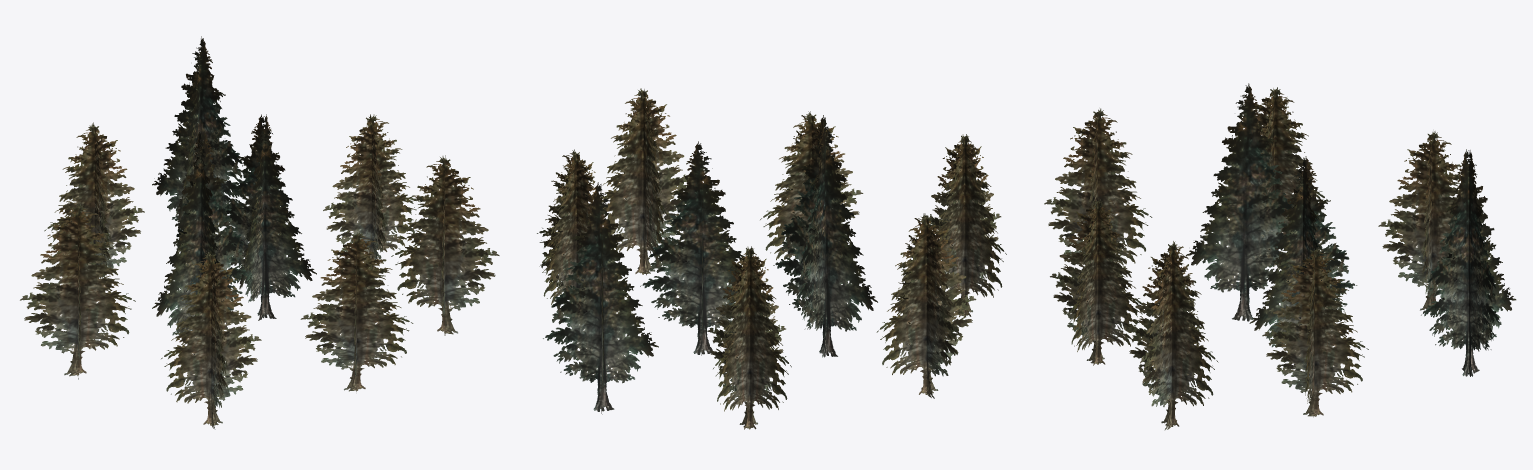
File: FOL_PineTree_BillBoard.FBX
3 views of the same model, side by side, from view 1: azimuth 30°, elevation 25°; view 2: azimuth 150°, elevation 25°; view 3: azimuth 270°, elevation 25° (orthographic). The views are drawn at different scales.
Parts seen in each view (by area): view 1: g; view 2: g; view 3: g.
Boxes of the visible parts, <box> form: g: <box>20,36,499,429</box>; g: <box>537,88,1006,429</box>; g: <box>1044,83,1516,430</box>.
Bounding box in the file's own units: 2178 × 1200 × 2119.
Materials: 1 (1 with a texture image).
